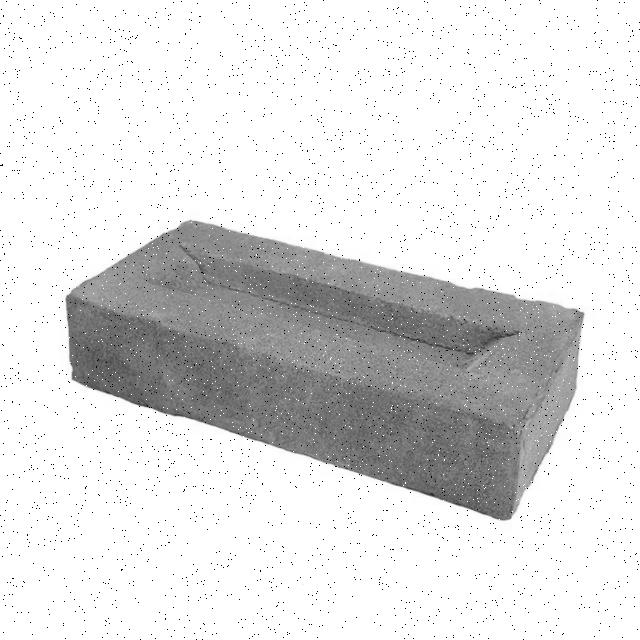bricks: (67, 214, 583, 525)
